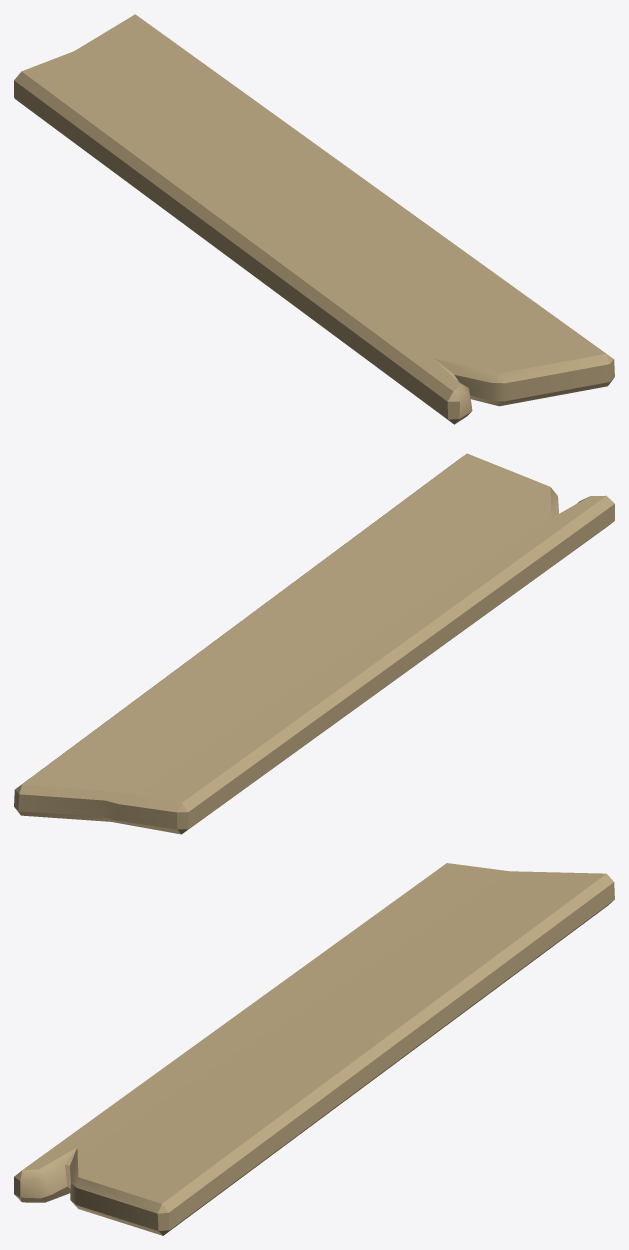
File: bridge_p1.fbx
3 renders of one model, top to bottom at view 1: azimuth 30°, elevation 25°; view 2: azimuth 150°, elevation 25°; view 3: azimuth 330°, elevation 25°, orthographic. The views are drawn at different scales.
Visible parts, largest first — view 1: bridge_p1; view 2: bridge_p1; view 3: bridge_p1.
Boxes of the visible parts, box(x1,y1,x2,y2) form: bridge_p1: box(14, 14, 614, 424); bridge_p1: box(14, 453, 614, 834); bridge_p1: box(14, 863, 614, 1235).
Bounding box in the file's own units: 41.7 × 9.06 × 208.
